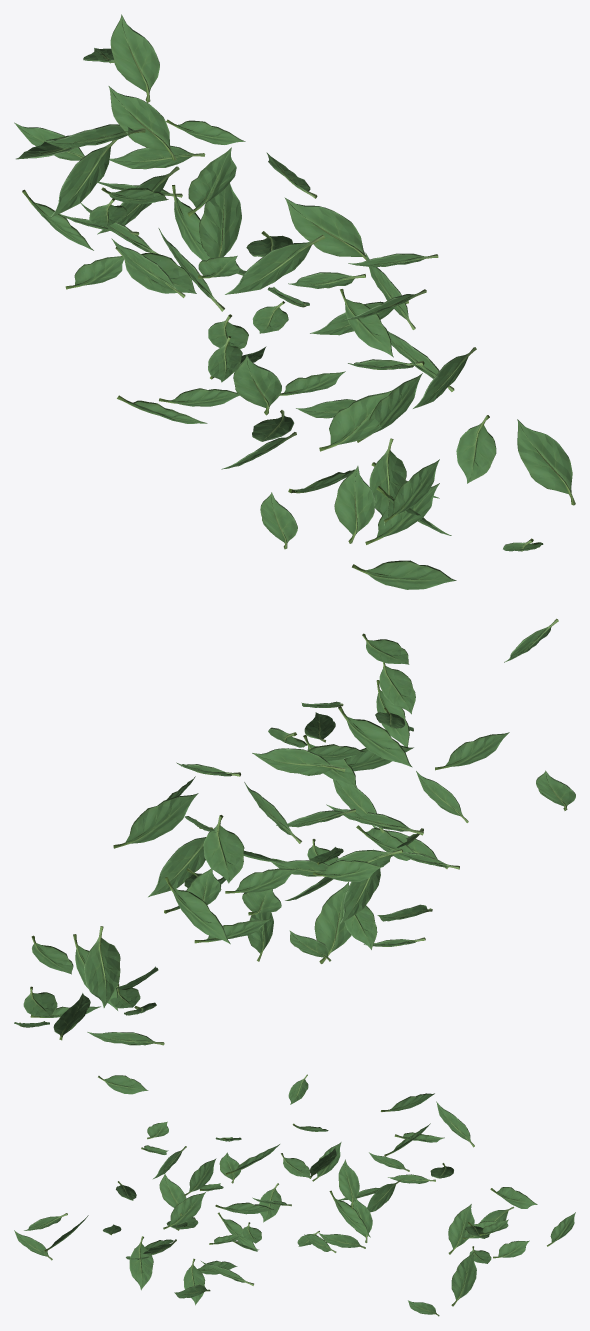
The model's file is holy_canopy9_full.glb.
3 renders of one model, top to bottom at view 1: azimuth 30°, elevation 25°; view 2: azimuth 150°, elevation 25°; view 3: azimuth 270°, elevation 25°, orthographic. The views are drawn at different scales.
Visible parts, largest first — view 1: holy_canopy9; view 2: holy_canopy9; view 3: holy_canopy9.
Part boxes in pixels (x1=…): holy_canopy9: x1=14, y1=14, x2=575, y2=589; holy_canopy9: x1=14, y1=618, x2=575, y2=1045; holy_canopy9: x1=14, y1=1074, x2=575, y2=1316.
Bounding box in the file's own units: 9.06 × 9.77 × 25.84.
1 material, 1 textured.
